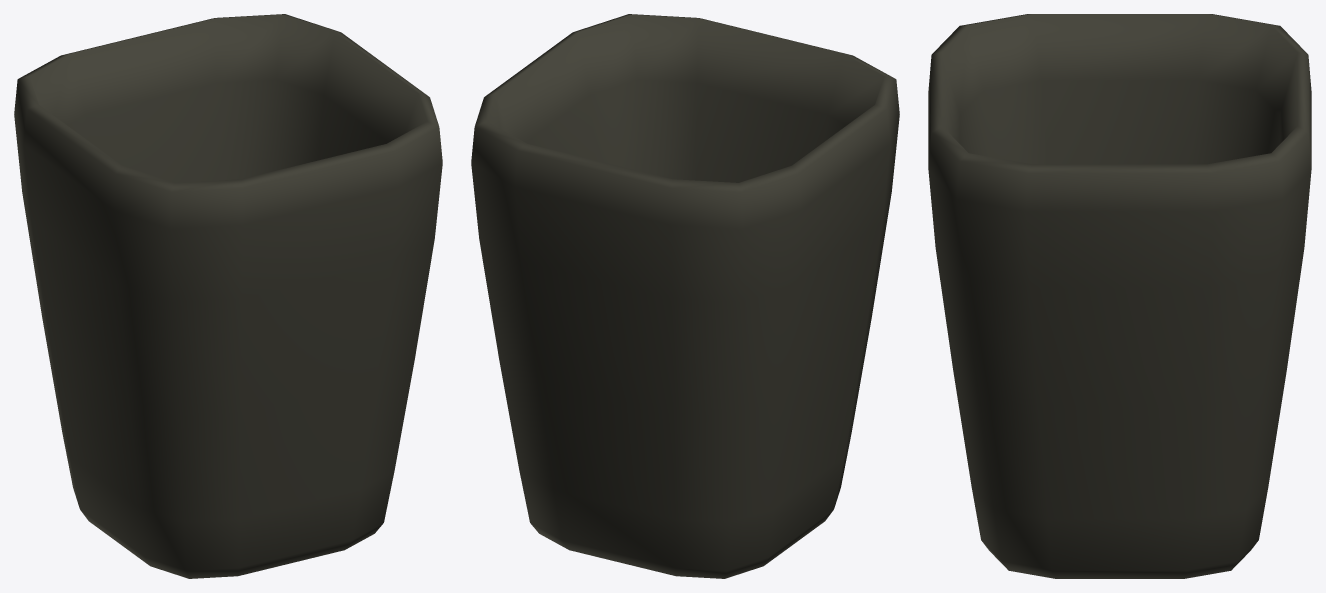
File: SmallGlass.fbx
3 views of the same model, side by side, from view 1: azimuth 30°, elevation 25°; view 2: azimuth 150°, elevation 25°; view 3: azimuth 270°, elevation 25° (orthographic). The views are drawn at different scales.
Parts seen in each view (by area): view 1: SmallGlass; view 2: SmallGlass; view 3: SmallGlass.
Boxes of the visible parts, bbox=[...] form: SmallGlass: bbox=[14, 14, 442, 578]; SmallGlass: bbox=[471, 14, 899, 578]; SmallGlass: bbox=[928, 14, 1311, 578].
Size of the model in its own units: 7.13 by 8.97 by 7.13.
